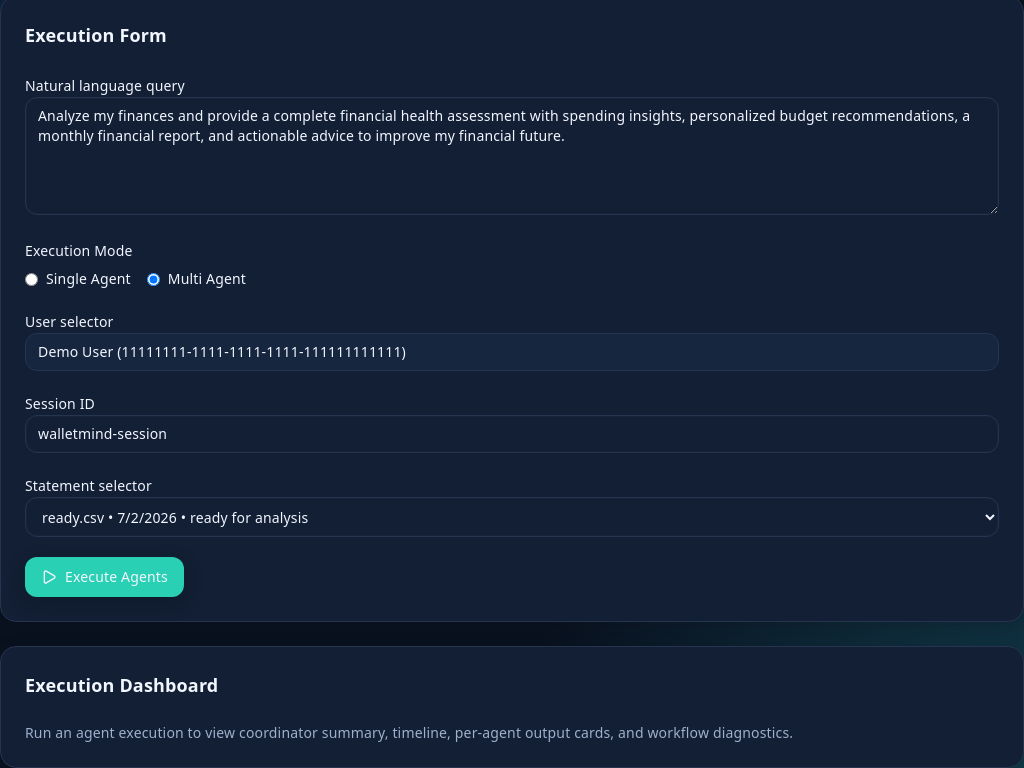
AppAgentPlaygroundPage - Sprint 2.3.4 › renders warning toast for partial failures
(page scrolled)
What coordinates should you click on to do the following:
click the button "Execute Agents"
I would click on:
 (104, 577)
Its box is left=25, top=557, right=184, bottom=597.
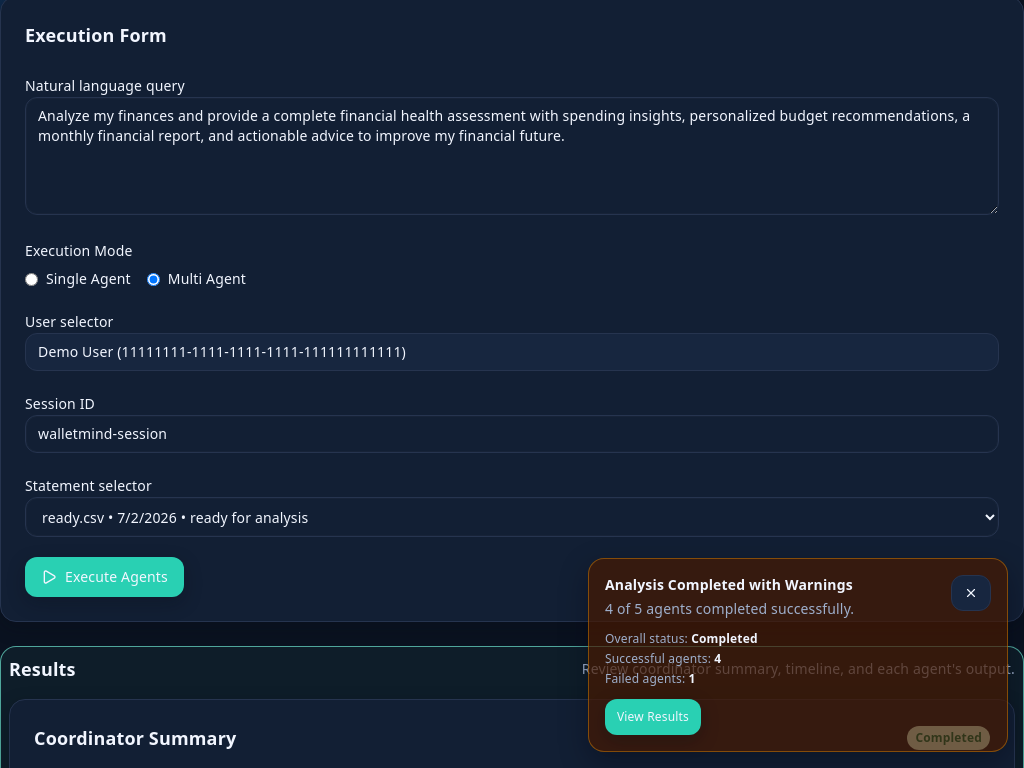
Check: the text "Analysis Completed with Warnings" is shown, box left=605, top=575, right=854, bottom=595
Check: the text "4 of 5 agents completed successfully." is shown, box left=605, top=599, right=854, bottom=619
